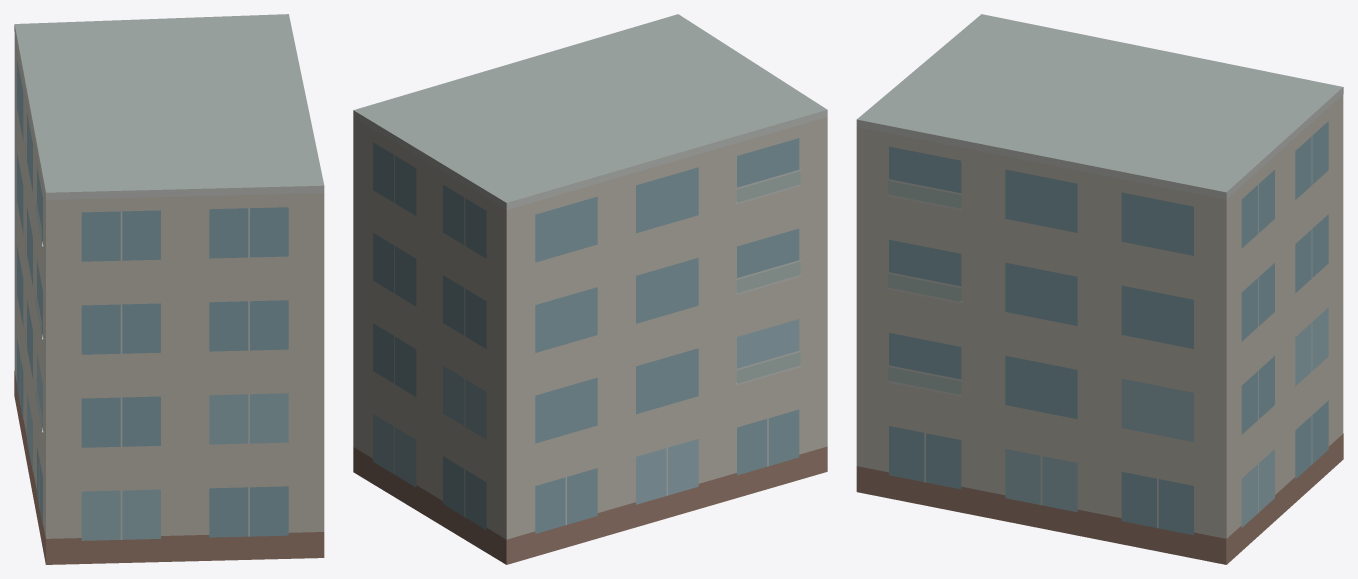
File: survey-upis-33001256.glb
3 renders of one model, left to right at view 1: azimuth 30°, elevation 25°; view 2: azimuth 150°, elevation 25°; view 3: azimuth 270°, elevation 25°, orthographic. The views are drawn at different scales.
Parts seen in each view (by area): view 1: survey-upis-33001256.tmp; view 2: survey-upis-33001256.tmp; view 3: survey-upis-33001256.tmp.
Boxes of the visible parts, x1,y1,x2,y2 form: survey-upis-33001256.tmp: (14, 14, 324, 564); survey-upis-33001256.tmp: (353, 14, 827, 564); survey-upis-33001256.tmp: (856, 14, 1343, 564).
Bounding box in the file's own units: 12.85 × 12.5 × 14.81.
